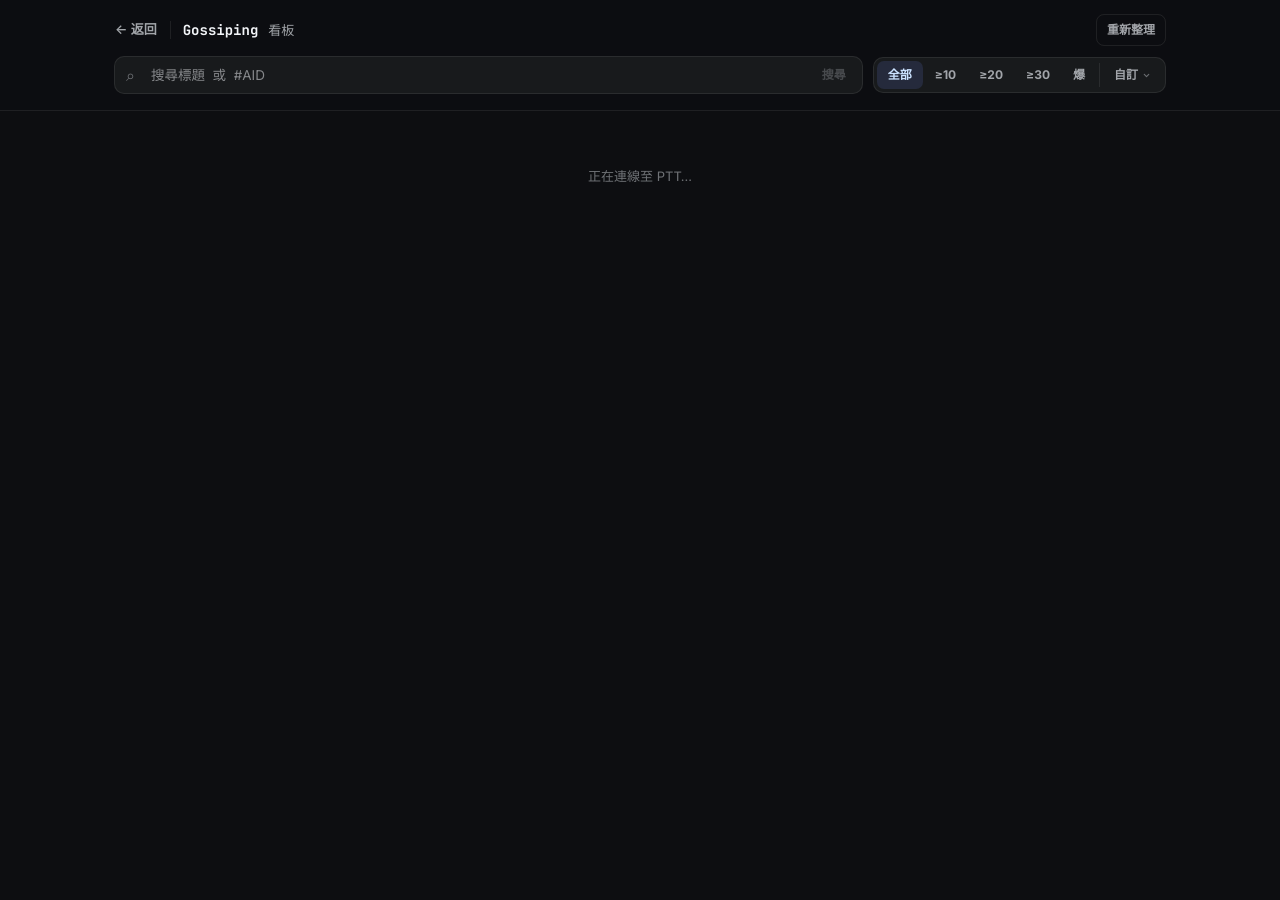
Test case: ArticleList › applies a custom push threshold from the filter popover
Click the button "自訂": (1132, 75) [1103, 61, 1162, 89]
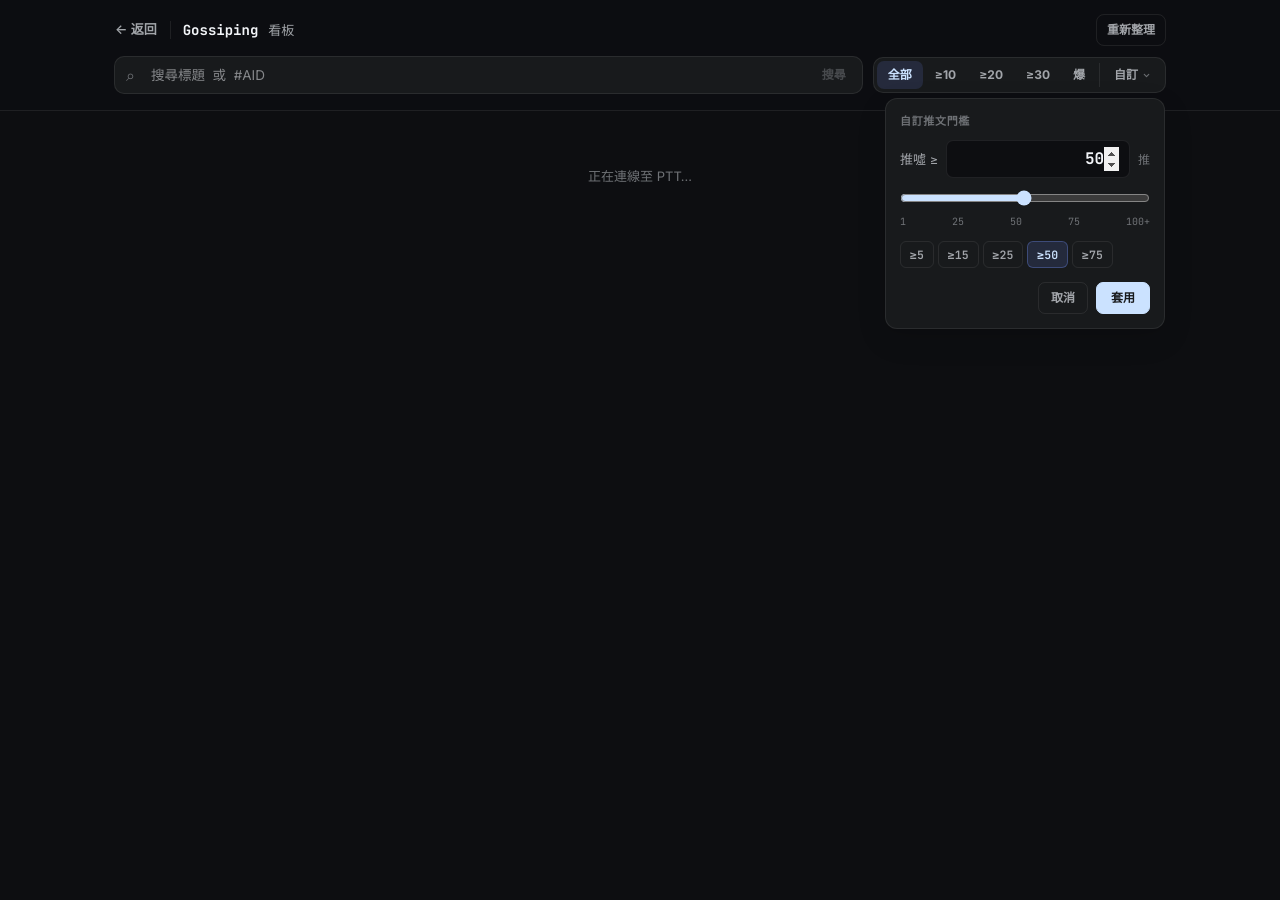
Replace the text in the number field with "75": (1038, 159) [946, 140, 1130, 178]
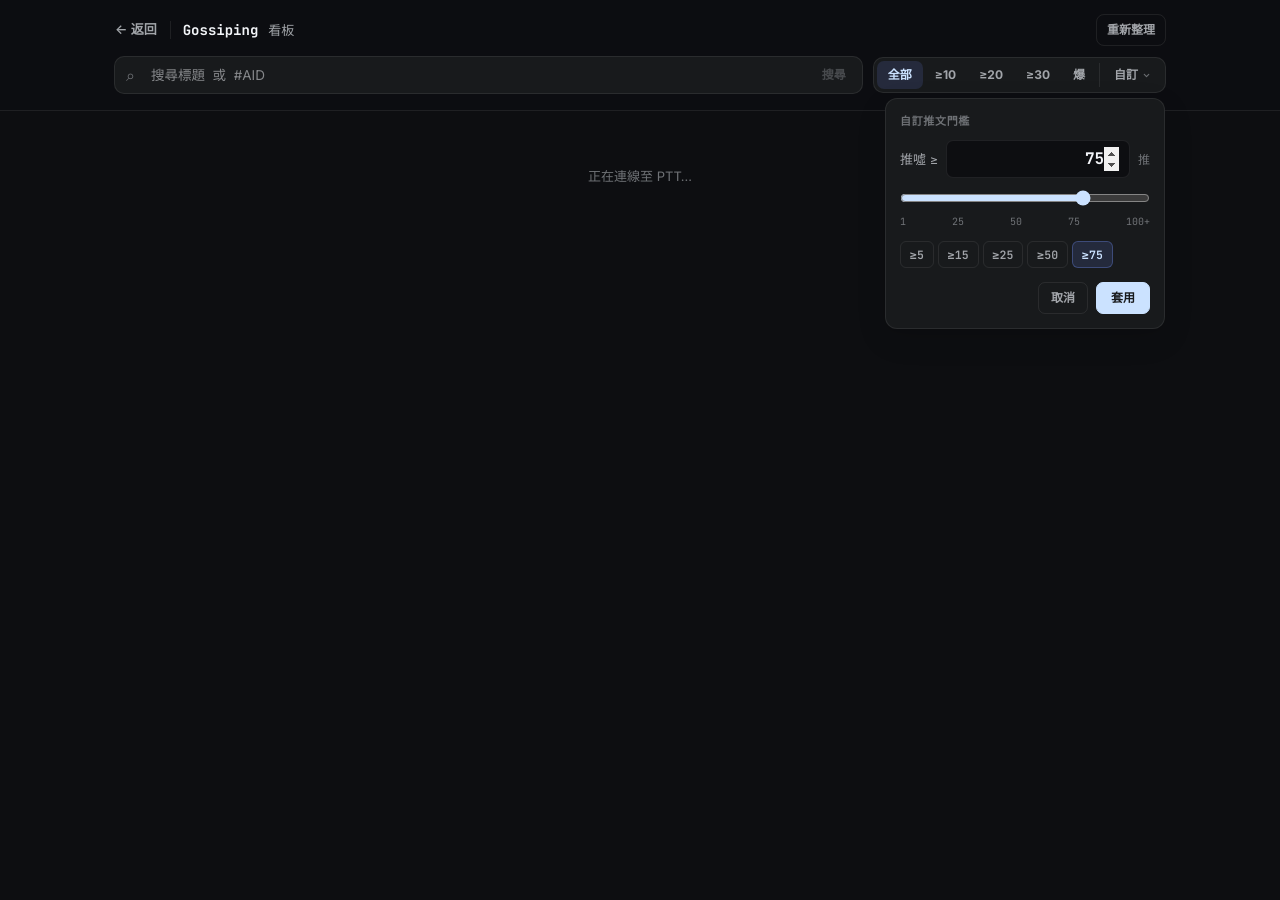
Click the button "套用": (1123, 298) [1096, 282, 1150, 314]
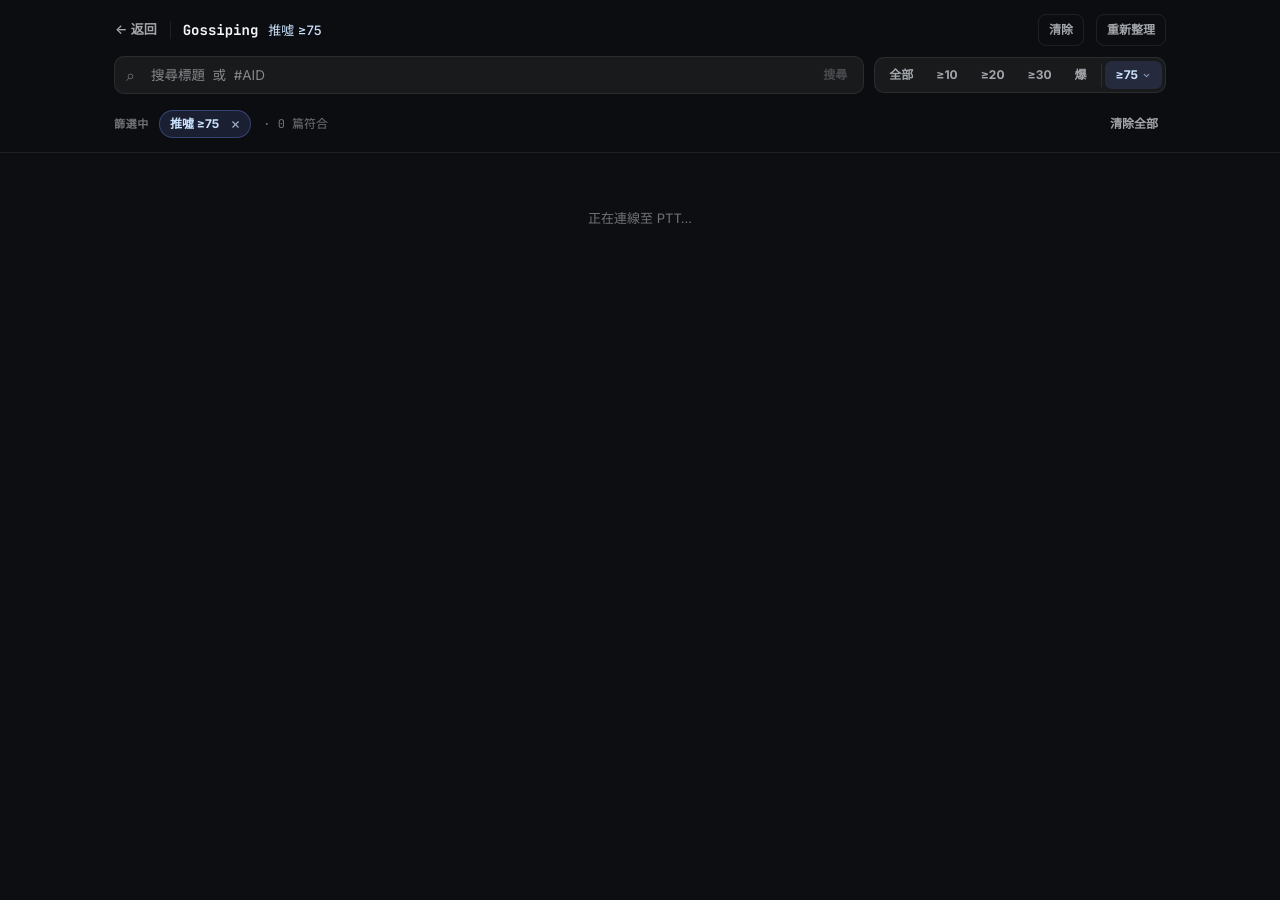
Now the text "推噓 ≥75" next to "Gossiping" is shown, box [268, 22, 322, 38]
Now the button titled "自訂推文門檻" reads "≥75", box [1104, 61, 1162, 89]
Click the button titled "清除推噓篩選": (236, 124) [225, 116, 246, 133]
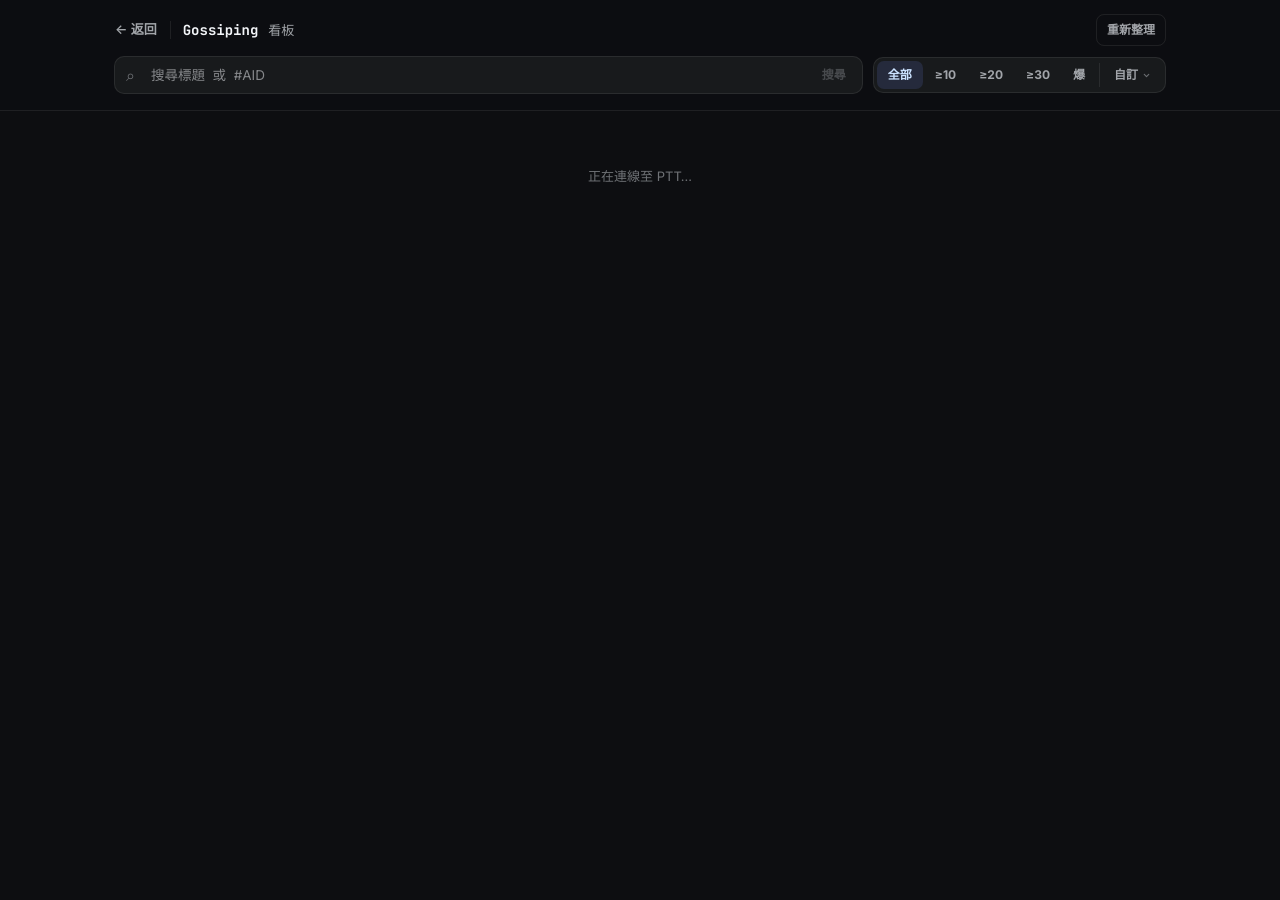
Now the text "推噓 ≥75" is gone
